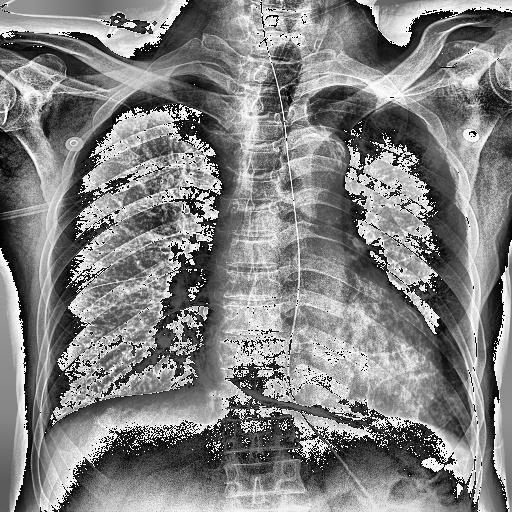11- Pleural thickening: (423, 398, 477, 450)
2- Calcification: (222, 367, 398, 450), (216, 374, 389, 438), (282, 113, 358, 205), (294, 120, 356, 186), (302, 128, 354, 164)
3- Cardiomegaly: (198, 284, 456, 432)
5- ILD: (368, 266, 471, 433), (30, 316, 138, 418)
